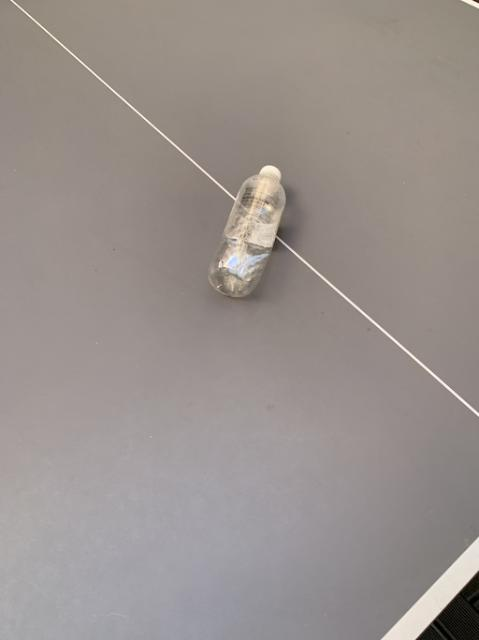plastic: (208, 165, 284, 295)
